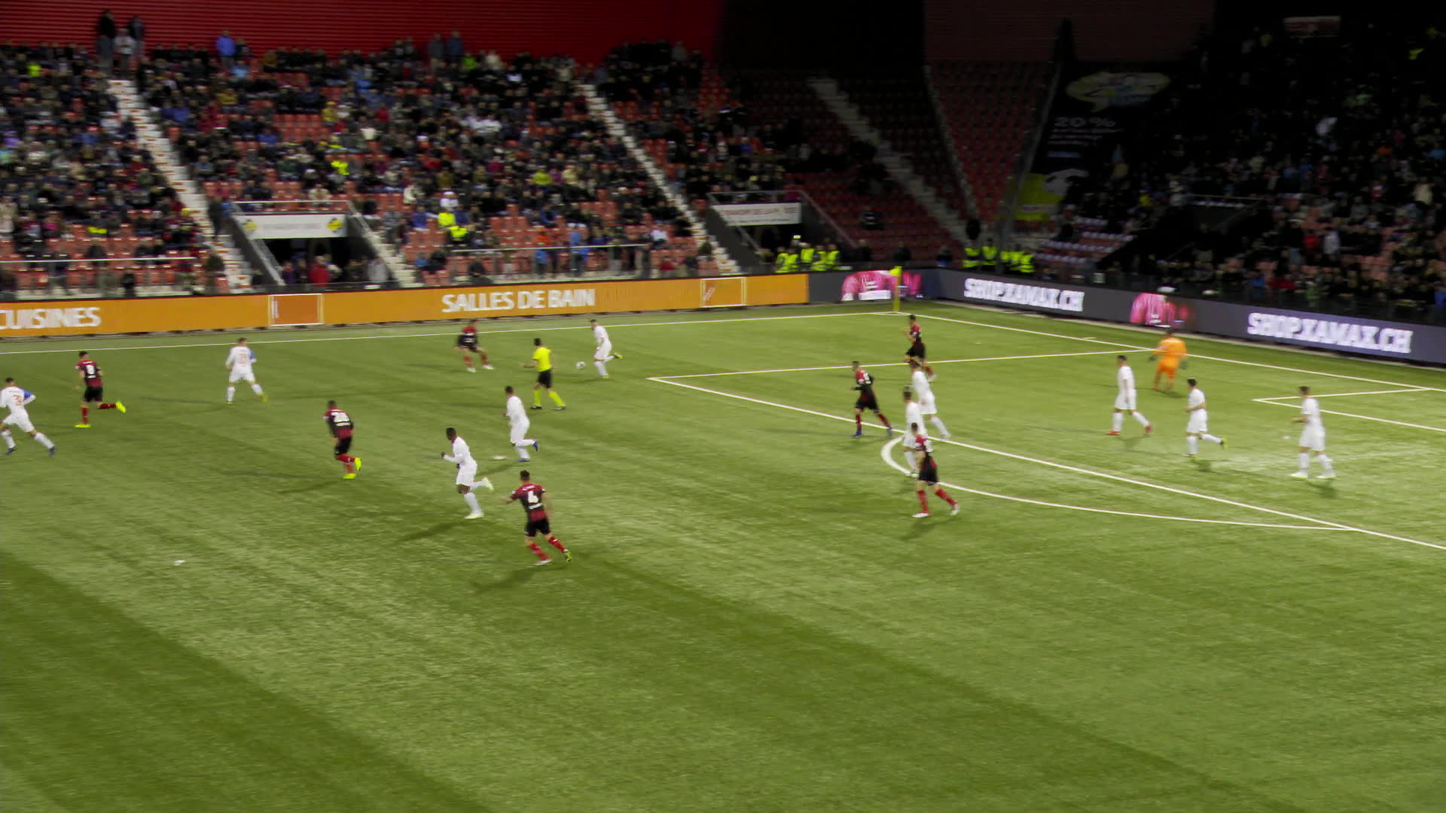ball: (575, 361, 584, 370)
player: (499, 467, 566, 566), (441, 423, 502, 516), (0, 381, 60, 458), (900, 425, 949, 517), (1284, 385, 1329, 479), (315, 397, 365, 480), (494, 383, 546, 461), (901, 364, 947, 440), (1101, 353, 1143, 435), (1176, 377, 1217, 458), (70, 352, 113, 429), (896, 313, 944, 380), (845, 361, 887, 437), (889, 390, 922, 477), (220, 340, 258, 406), (444, 315, 487, 372), (583, 318, 623, 379), (1142, 331, 1181, 391)
referee: (520, 336, 563, 410)
